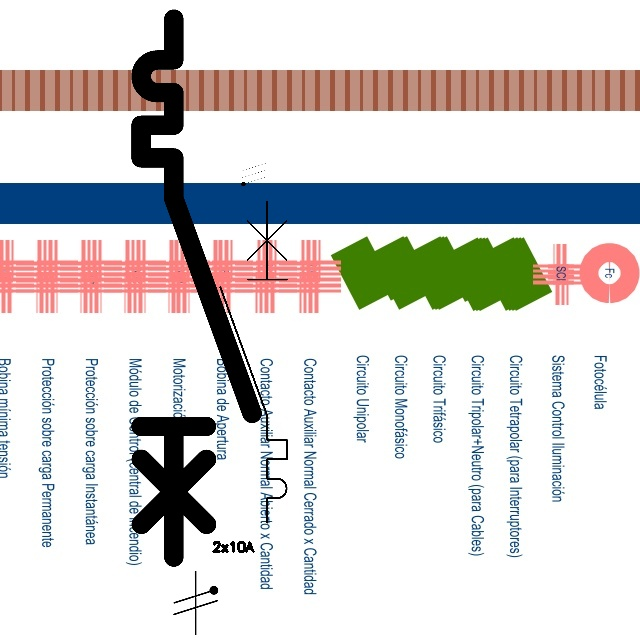interruptor_termomagnetico: (127, 5, 265, 571), (212, 193, 295, 531)
